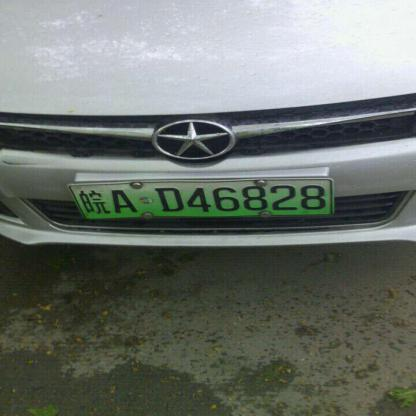lp: (68, 180, 332, 217)
